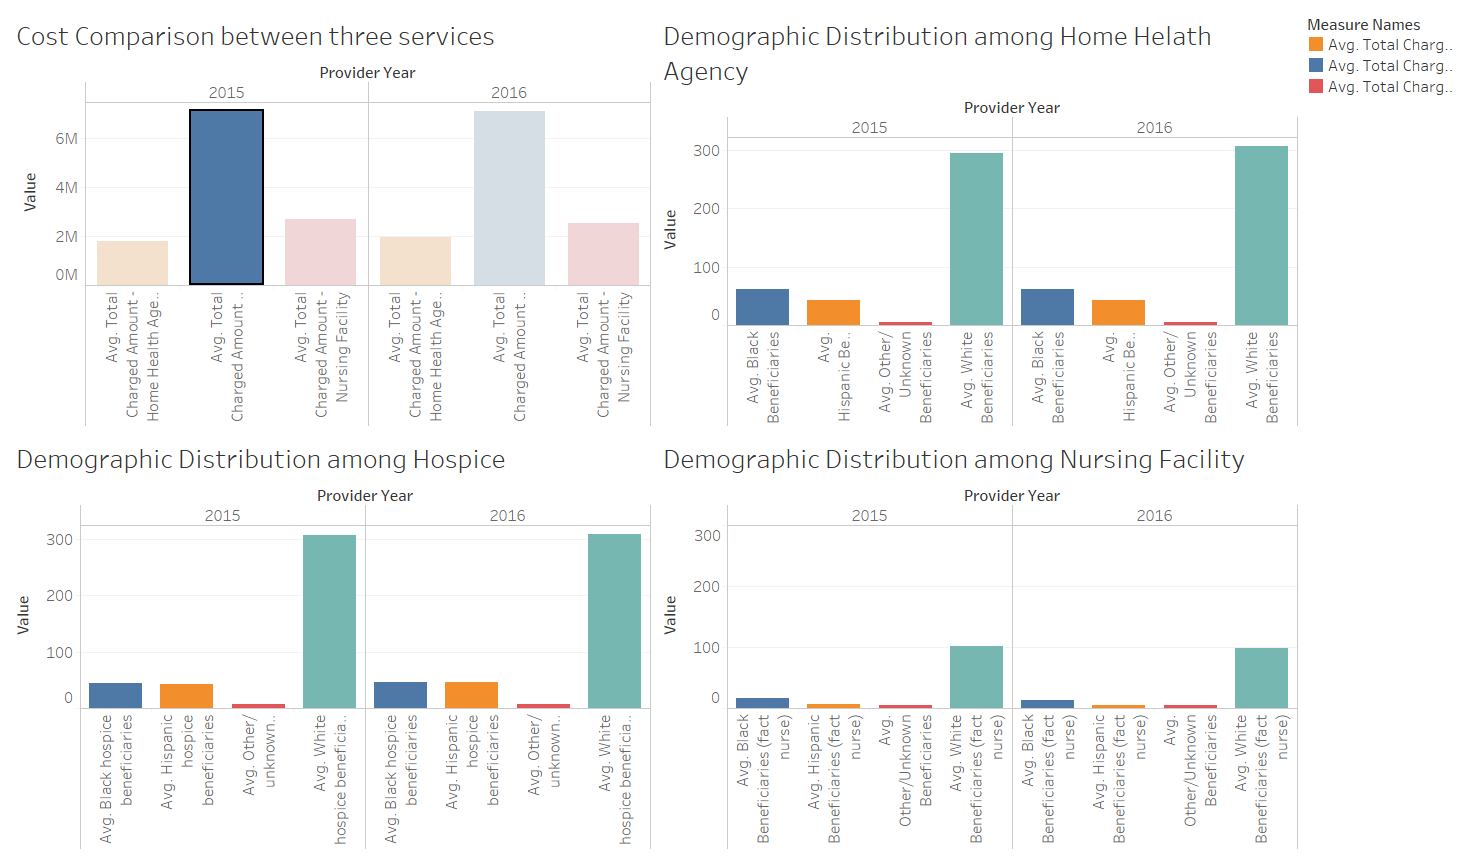

The page's visual inventory and layout, read from the dashboard file:
{"tool":"tableau","page":{"name":"Compare_1","canvas":[1000,1000],"units":"permille","ordinal":0},"visuals":[{"type":"worksheet","title":"cost","mark":"Automatic","cols":["Provider_Year"],"box":[5.4,9.3,440.1,490.7]},{"type":"worksheet","title":"hha1","mark":"Automatic","cols":["Provider_Year"],"box":[445.6,9.3,440.1,490.7]},{"type":"legend","title":"cost","param":"[federated.12nd8gl0smvno8155ha070g477ii].[:Measure Names]","box":[885.7,9.3,108.8,108]},{"type":"worksheet","title":"hos1","mark":"Automatic","cols":["Provider_Year"],"box":[5.4,500,440.1,490.7]},{"type":"worksheet","title":"nur3","mark":"Automatic","cols":["Provider_Year"],"box":[445.6,500,440.1,490.7]}]}

Visuals, with their boxes on the dashboard's canvas, which has no fixed pixel size, in thousandths of its width and height (x1, y1, x2, y2). These are canvas units, not pixel positions in the 1470x861 screenshot, which may show the page scaled, cropped or inside an application window:
"cost" worksheet: [5, 9, 446, 500]
"hha1" worksheet: [446, 9, 886, 500]
"cost" legend: [886, 9, 994, 117]
"hos1" worksheet: [5, 500, 446, 991]
"nur3" worksheet: [446, 500, 886, 991]
